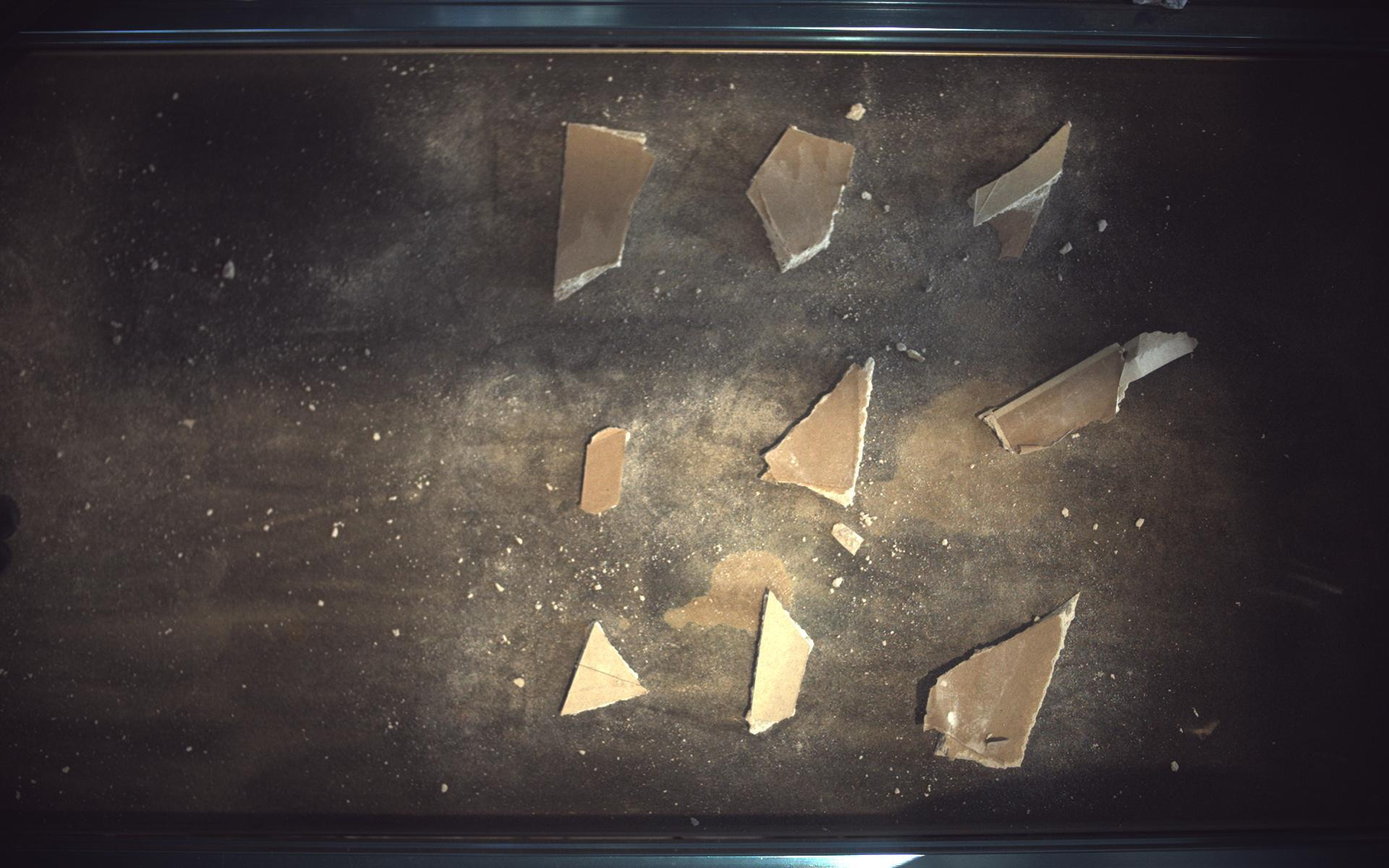gypsum_board: (925, 594, 1082, 770), (982, 332, 1201, 454), (554, 122, 655, 300), (764, 357, 876, 506), (748, 125, 857, 271), (971, 122, 1074, 259), (747, 591, 815, 736), (561, 623, 648, 717), (580, 427, 630, 515), (833, 524, 865, 556)
